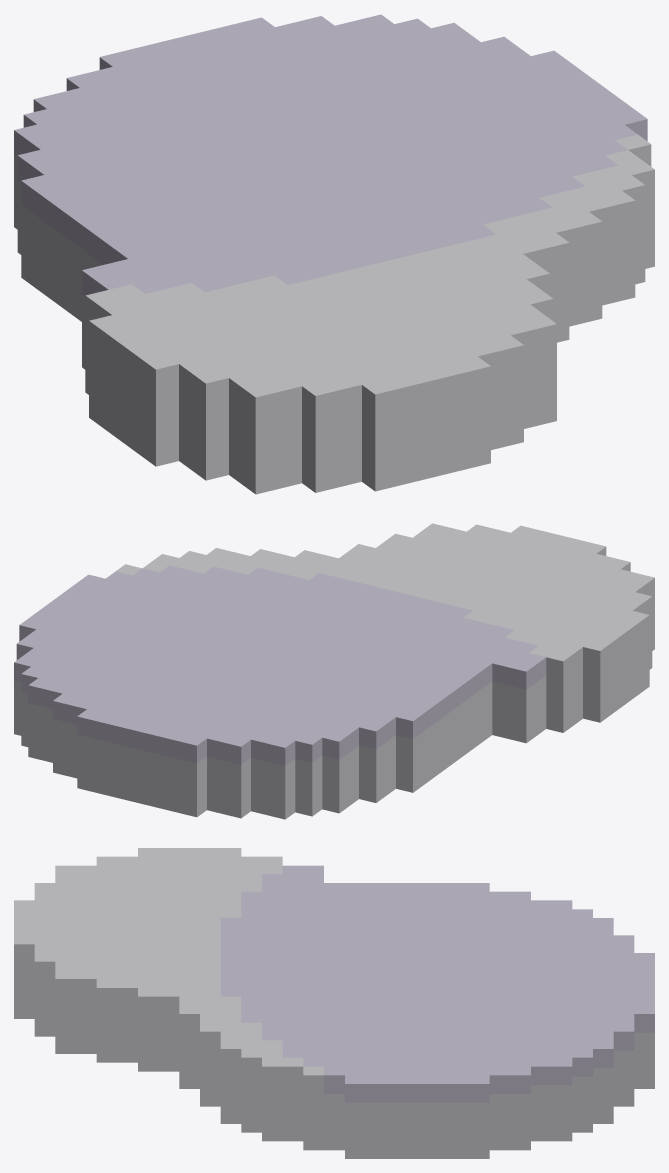
Rendered from ggj2020_stage_mini1.obj.
3 views of the same model, one above another, from view 1: azimuth 30°, elevation 25°; view 2: azimuth 150°, elevation 25°; view 3: azimuth 270°, elevation 25° (orthographic). The views are drawn at different scales.
Size of the model in its own units: 2.7 by 0.4 by 3.1.
1 material, 1 textured.
